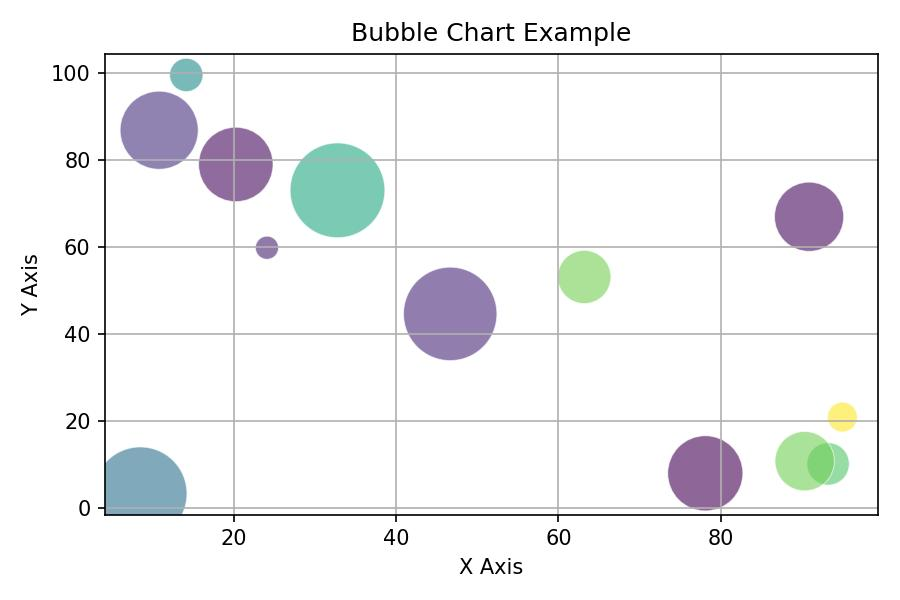axis: (89, 503, 878, 544), (78, 43, 121, 533)
circle: (291, 143, 386, 238), (401, 266, 496, 358), (115, 92, 200, 170), (199, 125, 276, 203), (669, 433, 742, 509), (772, 180, 846, 254), (108, 446, 187, 511), (775, 430, 834, 490), (560, 248, 613, 305), (808, 441, 851, 485), (168, 58, 205, 93), (829, 401, 859, 432), (252, 236, 280, 260)
